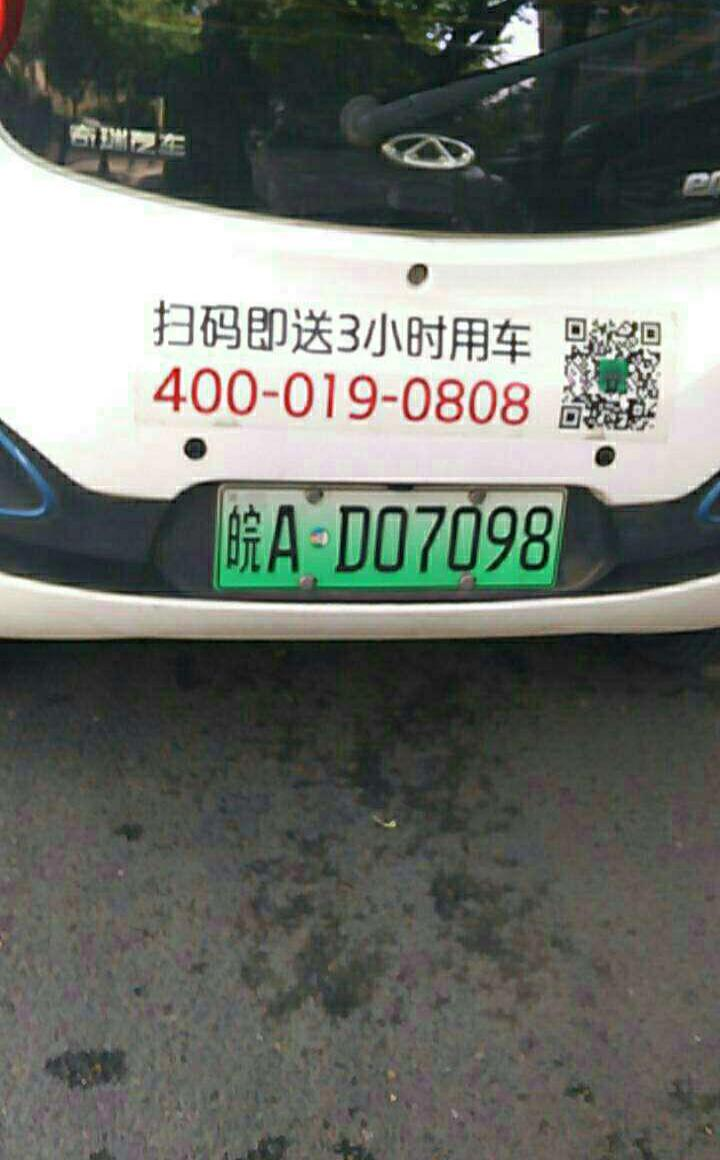car_id: (213, 490, 563, 588)
